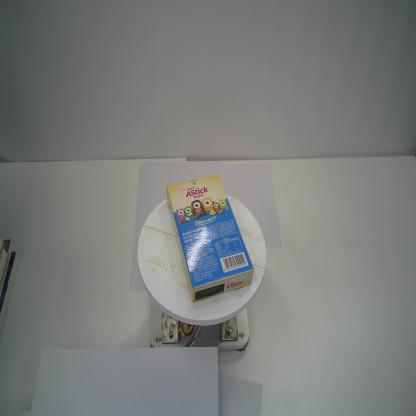Dessert: (165, 170, 255, 308)
